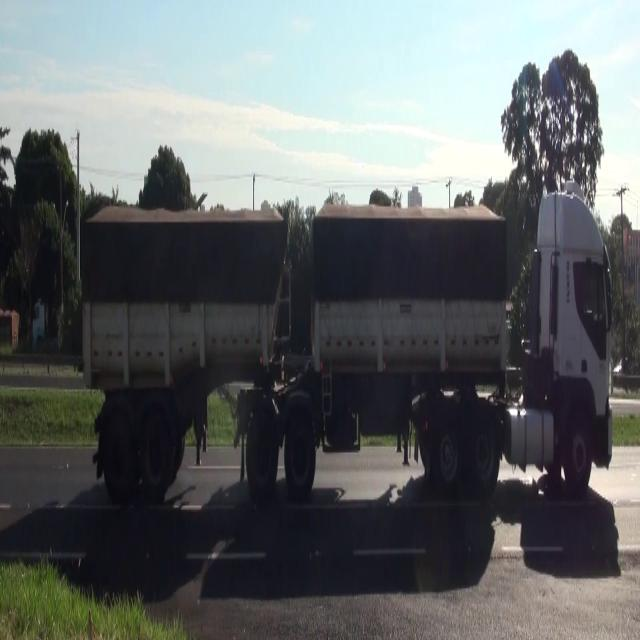-axle: (138, 408, 176, 502), (427, 413, 465, 498), (245, 404, 280, 494), (281, 410, 316, 500), (105, 408, 135, 501), (471, 404, 503, 491), (567, 408, 596, 499)
